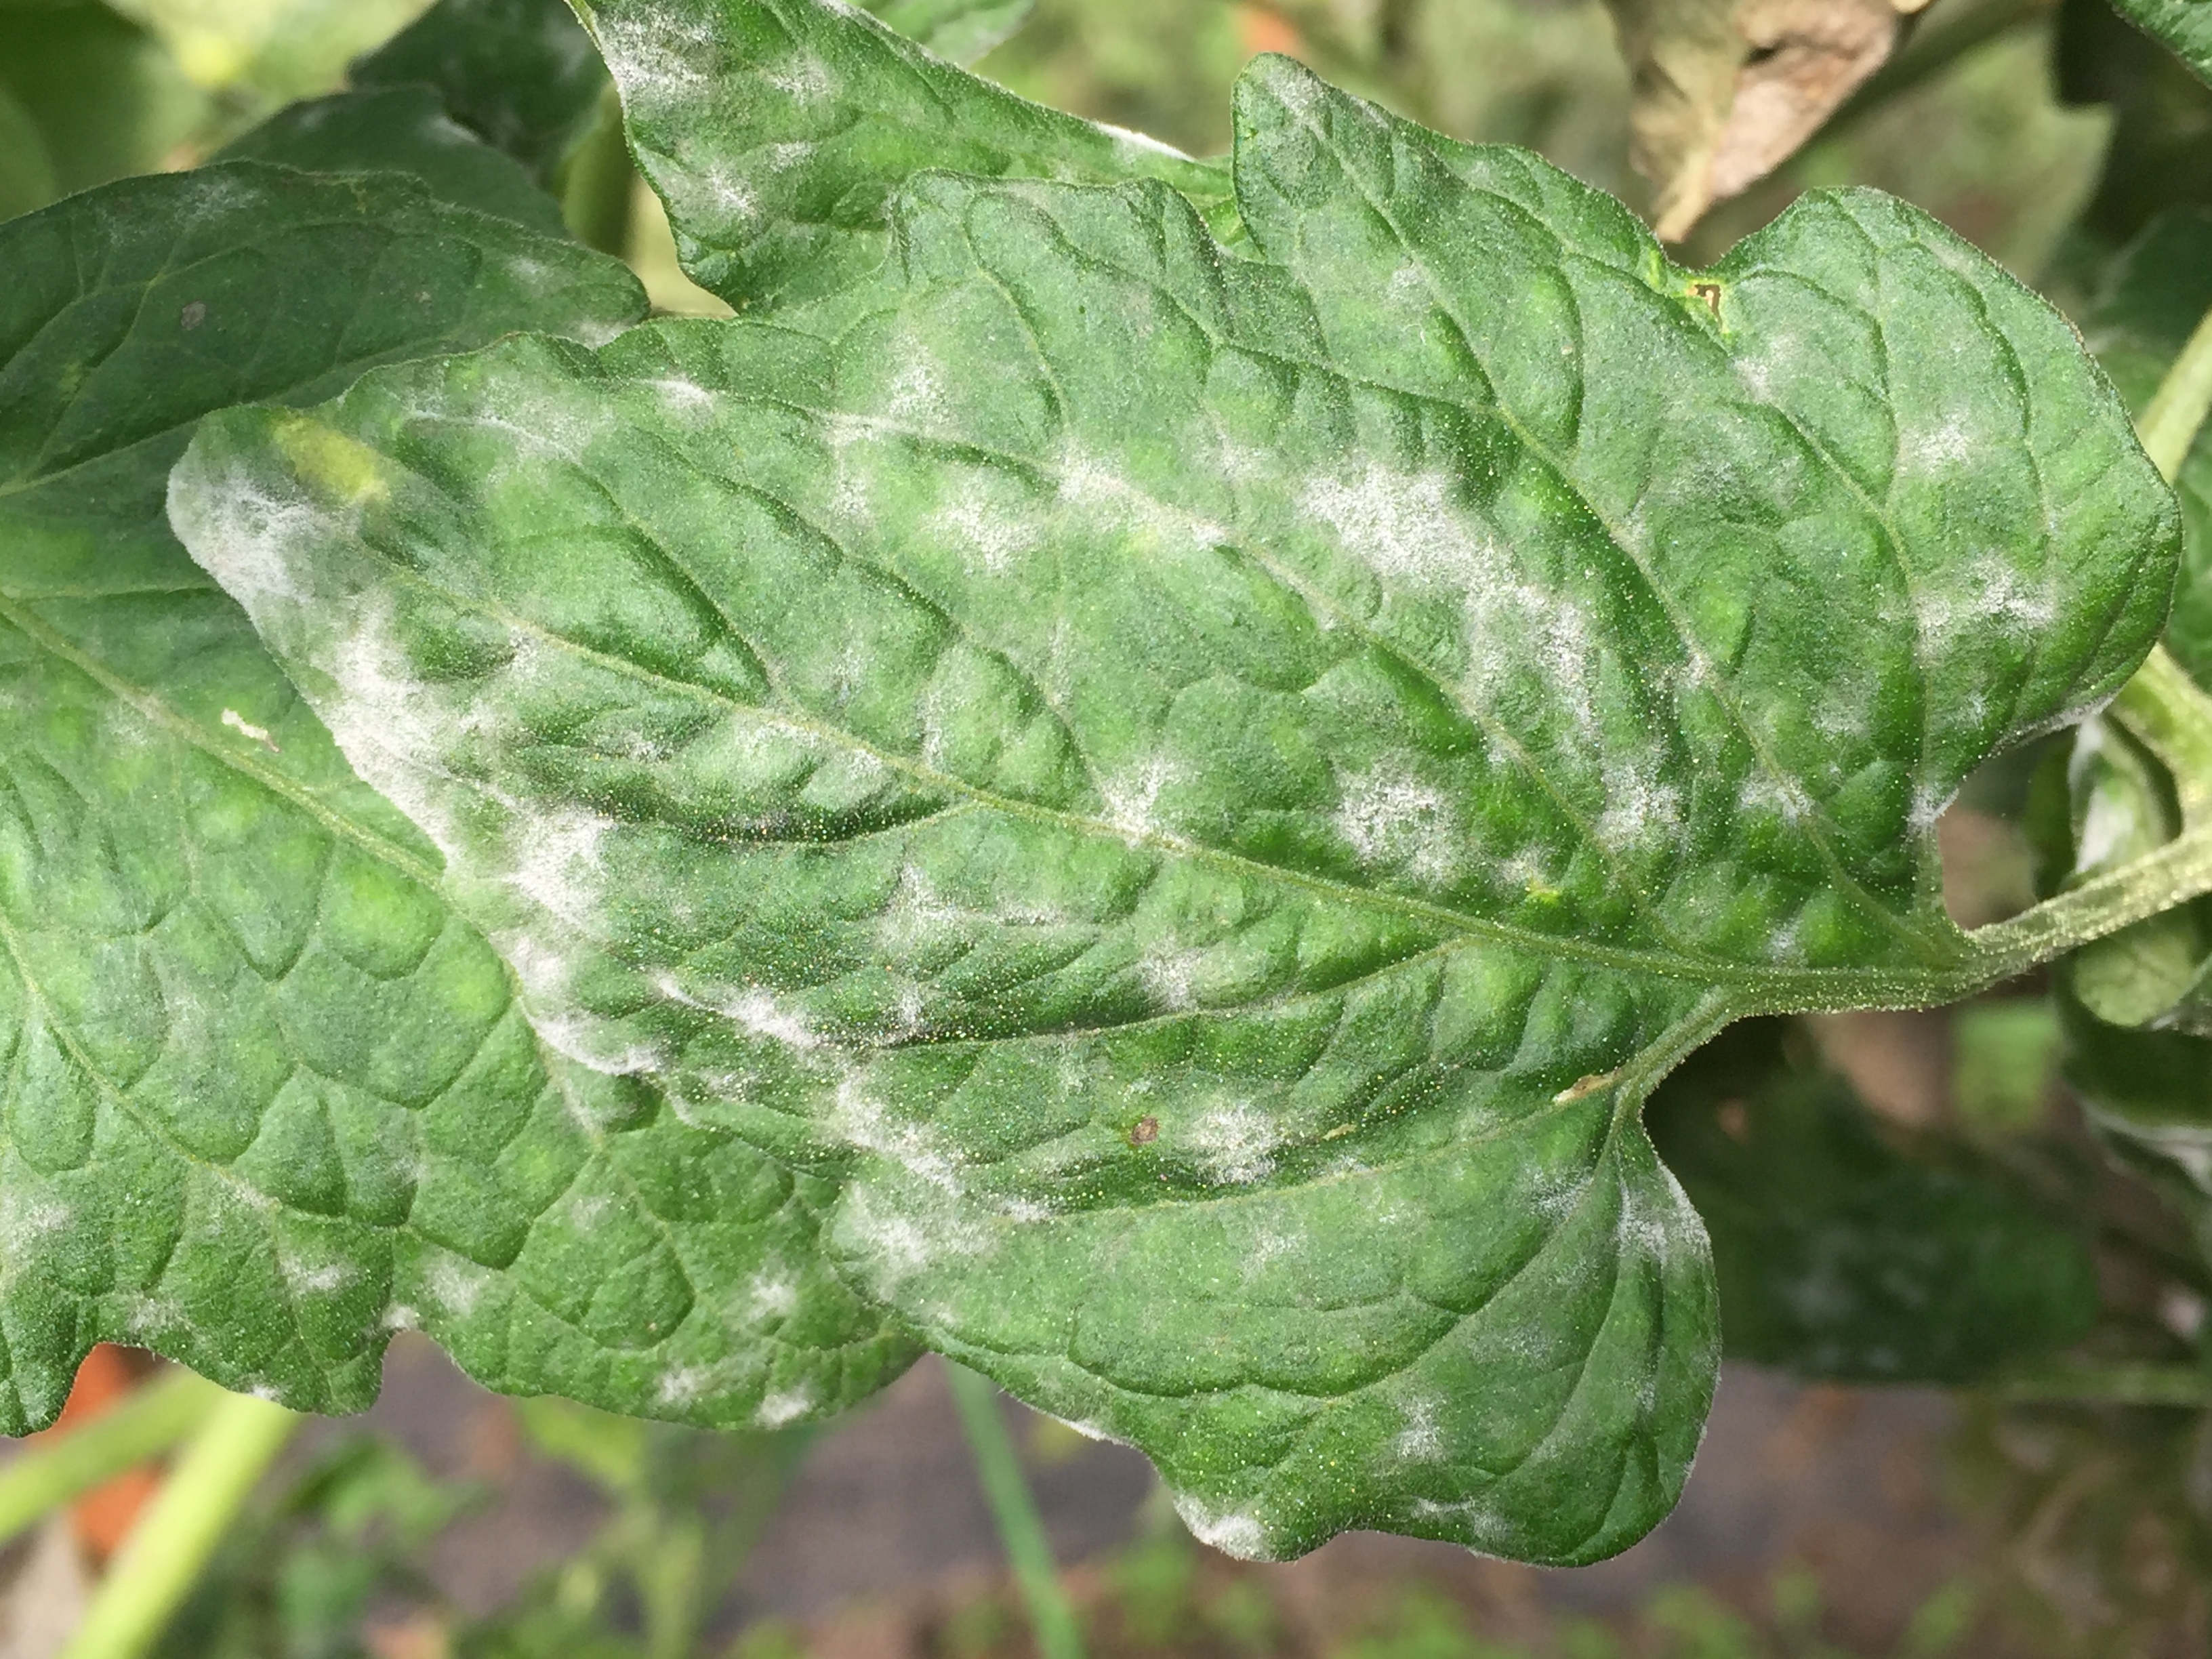blanca: (1219, 401, 1629, 739), (592, 2, 836, 244), (820, 1079, 1045, 1309), (510, 772, 658, 1087), (948, 430, 1190, 596), (164, 436, 347, 652), (341, 619, 505, 814), (786, 308, 934, 519), (449, 335, 592, 509), (1062, 744, 1211, 885), (1905, 533, 2074, 655), (1341, 755, 1463, 904), (1158, 1070, 1275, 1223), (1594, 727, 1705, 882), (681, 955, 836, 1058), (1608, 1161, 1714, 1279), (98, 178, 280, 237), (613, 340, 728, 432), (1714, 321, 1810, 430), (726, 1344, 829, 1439), (1895, 387, 1989, 491), (1183, 1474, 1275, 1560), (721, 1251, 819, 1326), (1359, 230, 1439, 321), (406, 1251, 489, 1331), (1733, 756, 1818, 829), (106, 1279, 181, 1354), (1386, 1398, 1456, 1469), (279, 1241, 347, 1314), (1810, 664, 1876, 734), (489, 230, 556, 298), (1895, 760, 1963, 826), (421, 117, 495, 167), (651, 1354, 698, 1419)
